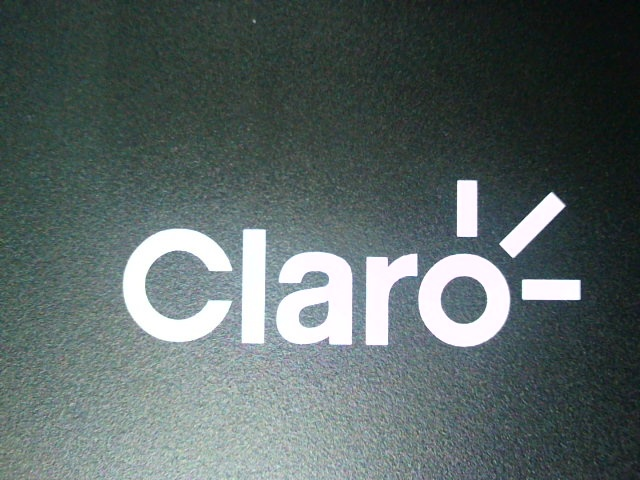BC_Claor: (88, 162, 591, 353)
